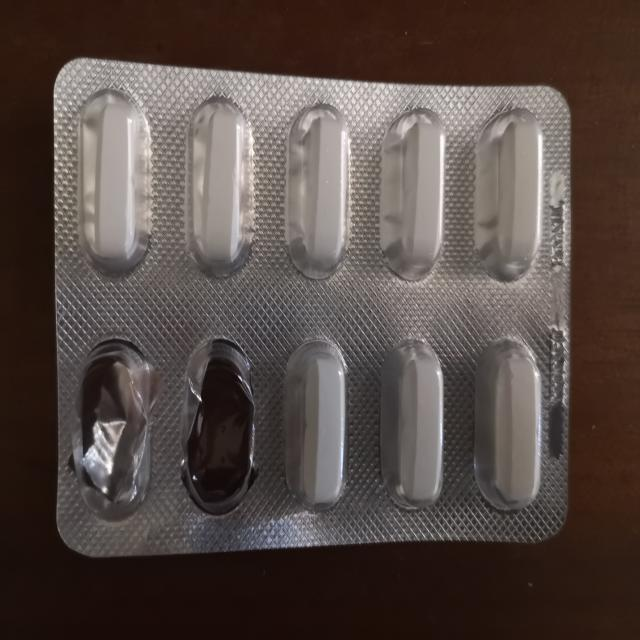Empty: (65, 333, 157, 526), (173, 329, 265, 518)
Pill: (68, 85, 156, 282), (276, 328, 361, 513), (178, 91, 256, 282), (281, 95, 359, 285), (469, 105, 548, 285), (472, 334, 548, 520), (376, 333, 450, 518), (377, 102, 453, 282)
